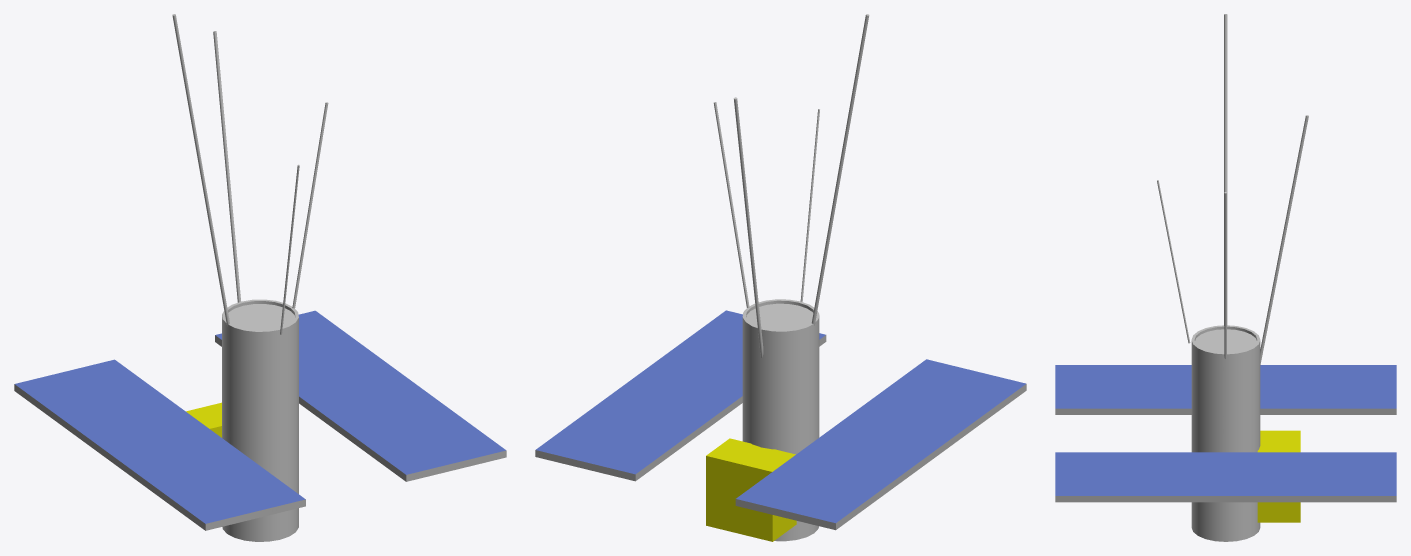
The model's file is satellite.glb.
3 views of the same model, side by side, from view 1: azimuth 30°, elevation 25°; view 2: azimuth 150°, elevation 25°; view 3: azimuth 270°, elevation 25° (orthographic). The views are drawn at different scales.
Parts seen in each view (by area): view 1: SatWing2, SatWing1.001, pCylinder2 (×2), pCylinder4, pCylinder3, pCube1; view 2: SatWing2, SatWing1.001, pCylinder2 (×2), pCube1, pCylinder4, pCylinder3; view 3: SatWing1.001, SatWing2, pCylinder2 (×2), pCube1, pCylinder4, pCylinder3, pCylinder1.
Part boxes in pixels (<box>): SatWing2: <box>14,359,305,530</box>; SatWing1.001: <box>215,310,506,481</box>; pCylinder2 (×2): <box>213,31,298,541</box>; pCylinder4: <box>172,14,229,326</box>; pCylinder3: <box>292,102,328,308</box>; pCube1: <box>186,402,221,437</box>; SatWing2: <box>735,359,1026,530</box>; SatWing1.001: <box>535,310,826,481</box>; pCylinder2 (×2): <box>733,97,819,541</box>; pCube1: <box>706,438,796,541</box>; pCylinder4: <box>811,14,869,325</box>; pCylinder3: <box>713,102,749,307</box>; SatWing1.001: <box>1055,452,1396,502</box>; SatWing2: <box>1055,365,1396,414</box>; pCylinder2 (×2): <box>1191,115,1308,541</box>; pCube1: <box>1257,430,1300,522</box>; pCylinder4: <box>1224,14,1227,325</box>; pCylinder3: <box>1224,192,1226,358</box>; pCylinder1: <box>1157,180,1190,343</box>.
Bounding box in the file's own units: 0.09 × 0.1521 × 0.099.
